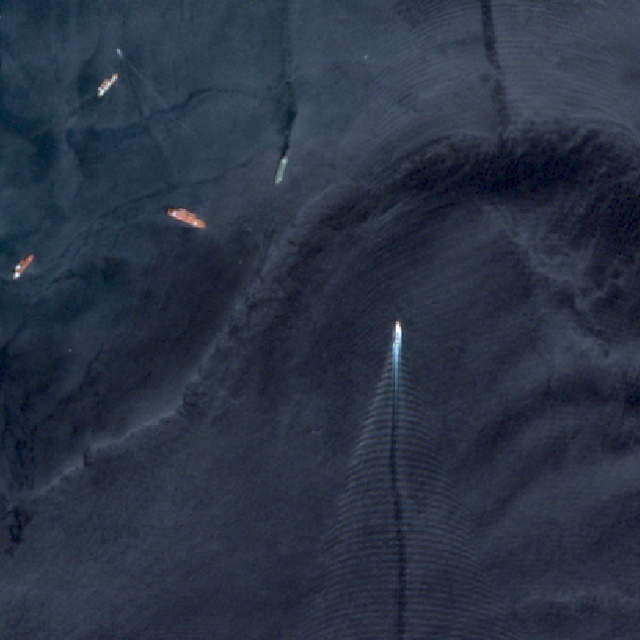wake: (335, 312, 454, 532)
